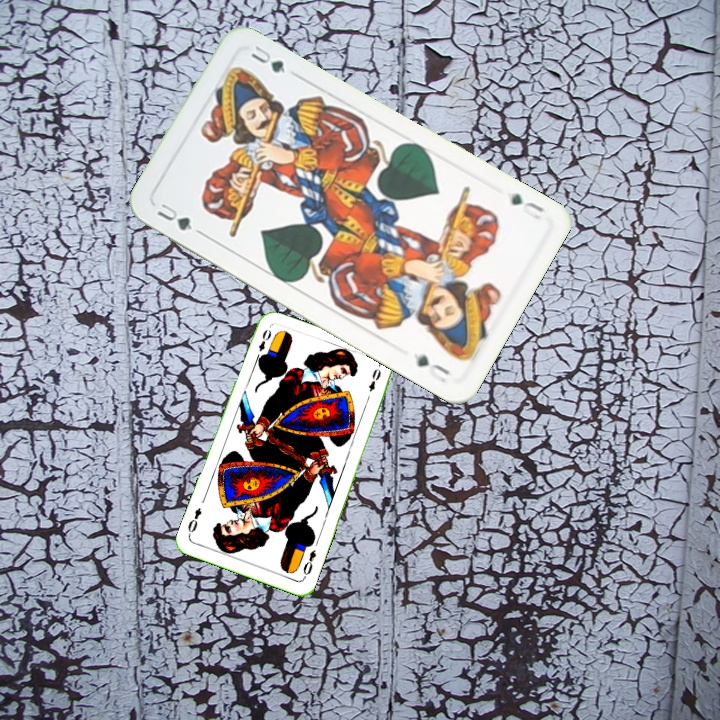EO: (252, 325, 274, 363), (299, 546, 319, 578)
GU: (153, 199, 195, 234), (506, 188, 547, 223)
